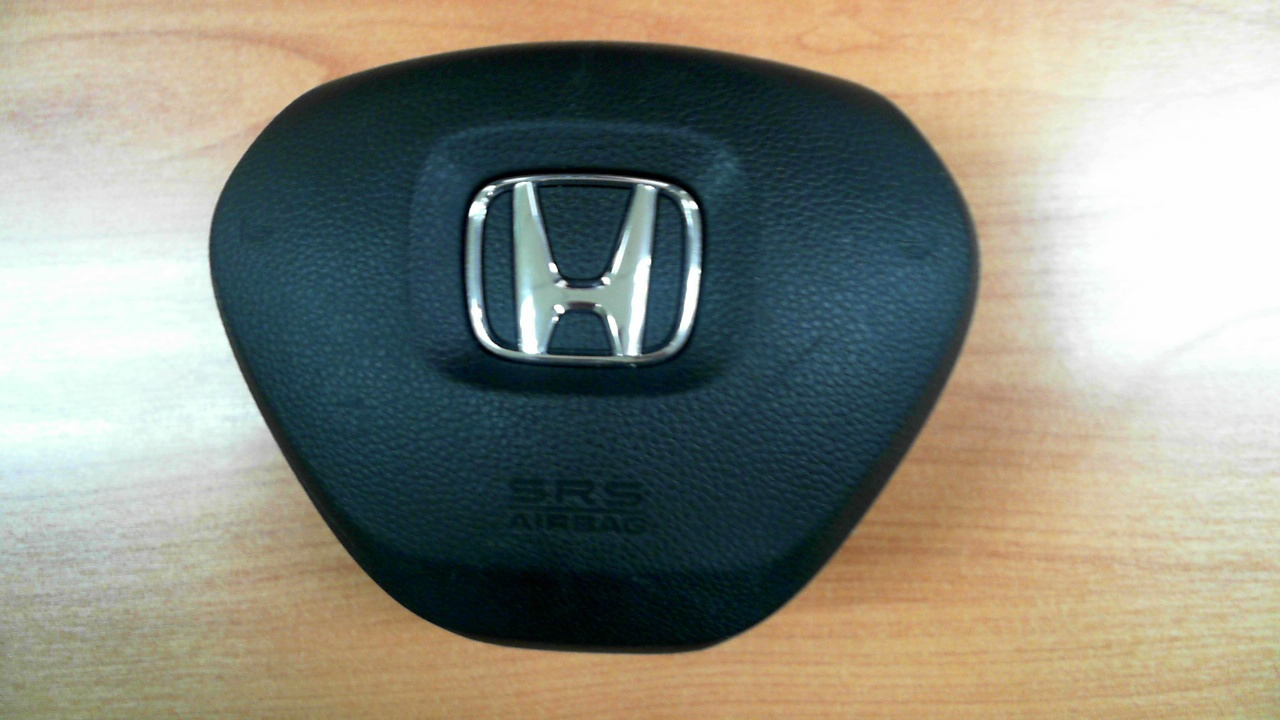Airbag: (209, 41, 982, 654)
Honda: (465, 173, 702, 367)
